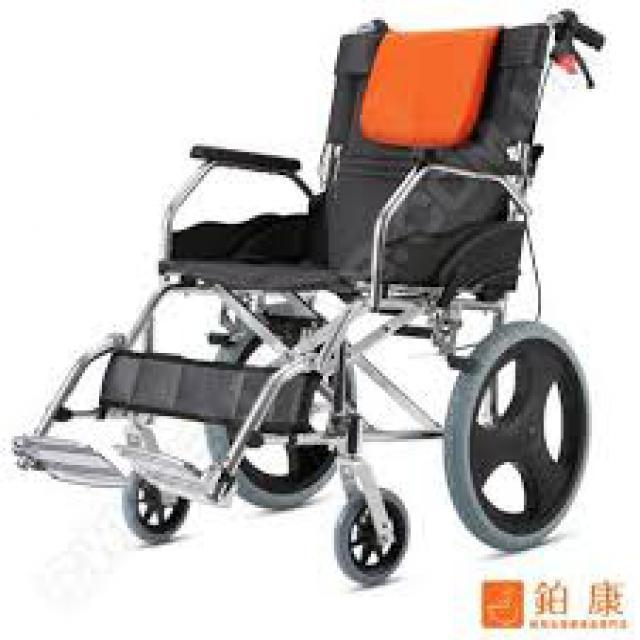wheelchair: (0, 6, 626, 586)
